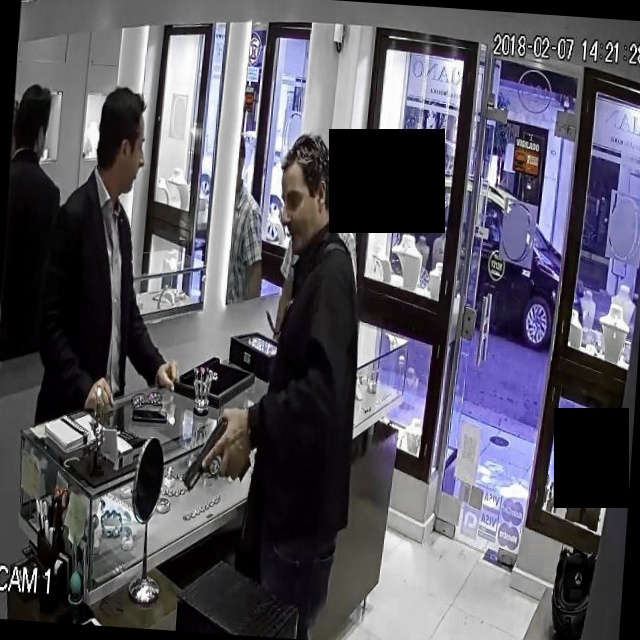gun: (174, 381, 259, 511)
